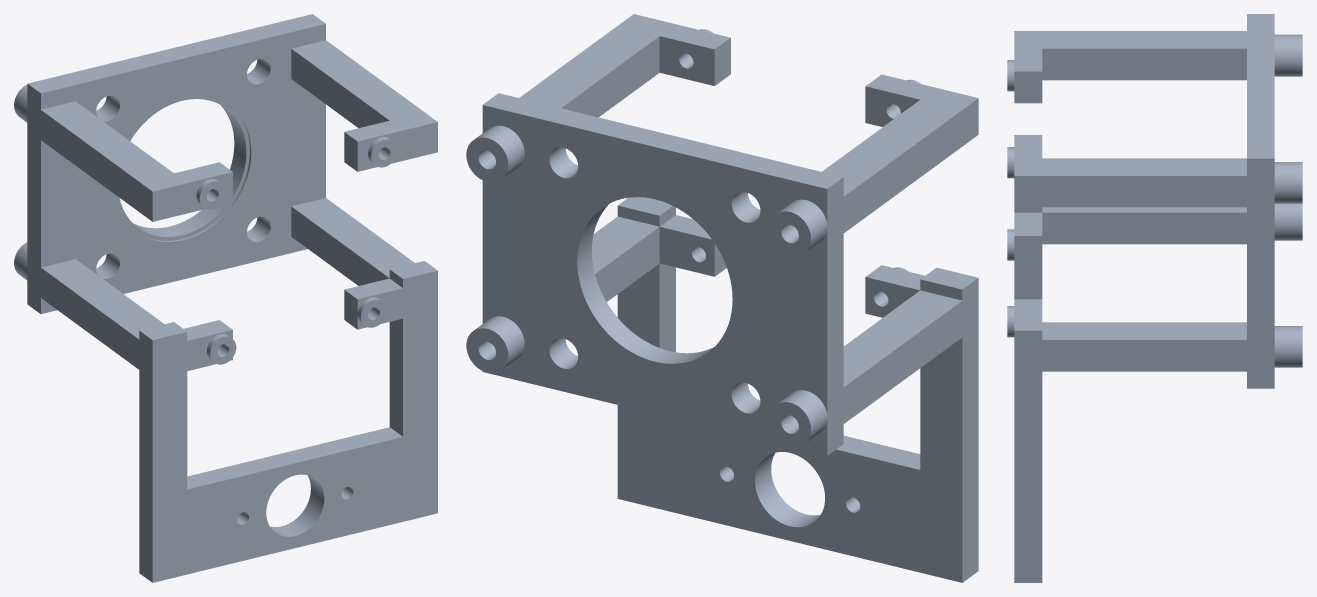
File: carrier.glb
3 views of the same model, side by side, from view 1: azimuth 30°, elevation 25°; view 2: azimuth 150°, elevation 25°; view 3: azimuth 270°, elevation 25° (orthographic). The views are drawn at different scales.
Visible parts, largest first — view 1: Separate_front_carrier; view 2: Separate_front_carrier; view 3: Separate_front_carrier.
Boxes of the visible parts, x1,y1,x2,y2 form: Separate_front_carrier: [14, 14, 437, 582]; Separate_front_carrier: [466, 14, 978, 582]; Separate_front_carrier: [1007, 14, 1302, 582].
Size of the model in its own units: 49.2 by 67.2 by 42.4.
